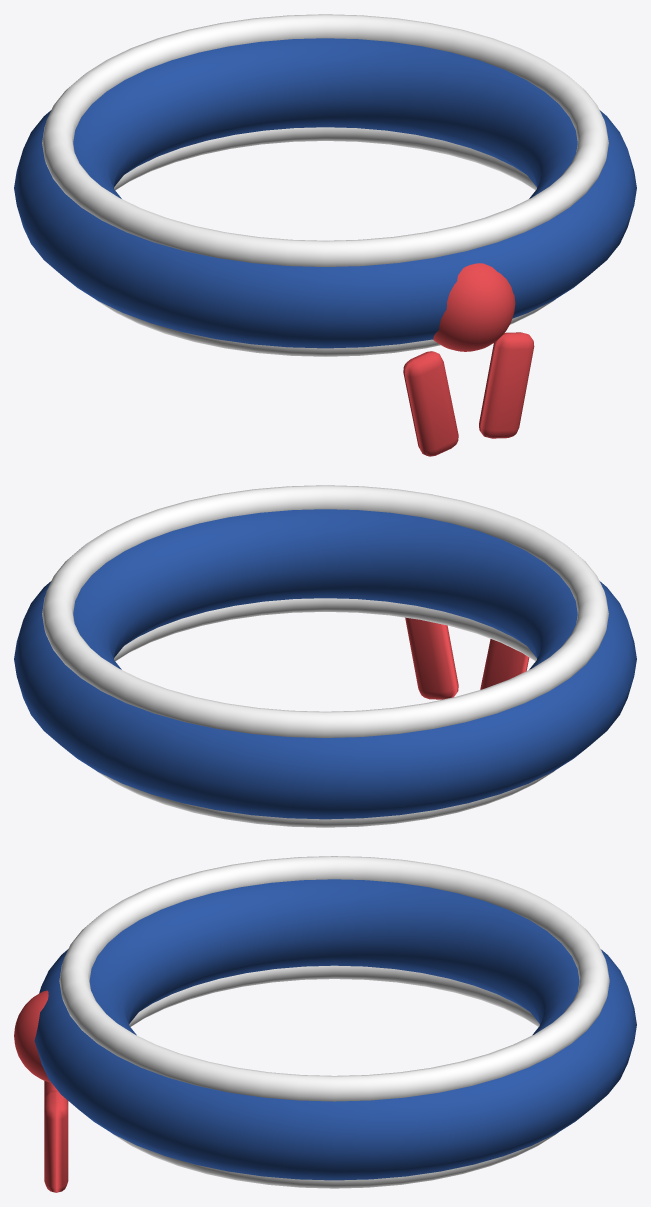
Rendered from sailor-collar.glb.
The picture shows the model from 3 angles, top to bottom: view 1: azimuth 30°, elevation 25°; view 2: azimuth 150°, elevation 25°; view 3: azimuth 270°, elevation 25°; orthographic projection. The views are drawn at different scales.
Visible parts, largest first — view 1: sailor-collar; view 2: sailor-collar; view 3: sailor-collar.
Part boxes in pixels (<box>): sailor-collar: <box>14,14,636,456</box>; sailor-collar: <box>14,485,636,827</box>; sailor-collar: <box>14,856,636,1192</box>.
Size of the model in its own units: 1 by 0.3762 by 1.03.
